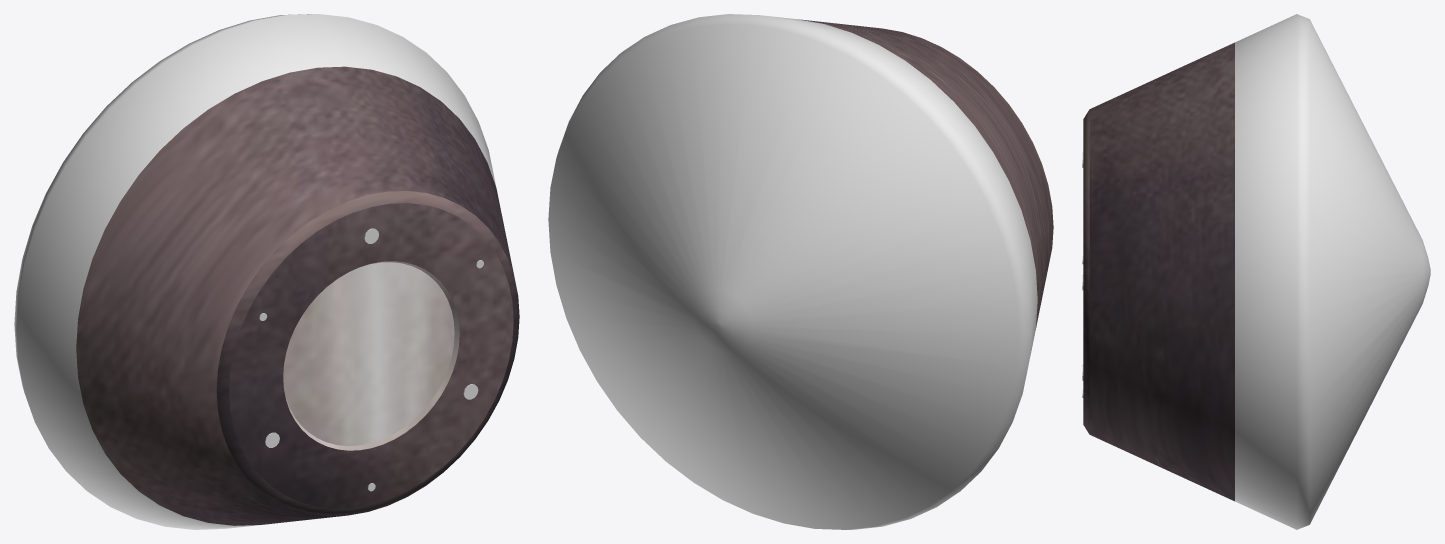
Rendered from stardust-src.glb.
3 renders of one model, left to right at view 1: azimuth 30°, elevation 25°; view 2: azimuth 150°, elevation 25°; view 3: azimuth 270°, elevation 25°, orthographic. The views are drawn at different scales.
Visible parts, largest first — view 1: Stardust_tex_01_c, Stardust_tex_01_c2, Stardust_tex_02_c; view 2: Stardust_tex_01_c2, Stardust_tex_01_c; view 3: Stardust_tex_01_c2, Stardust_tex_01_c.
Part boxes in pixels (bbox=[...]): Stardust_tex_01_c: bbox=[76, 66, 519, 525]; Stardust_tex_01_c2: bbox=[14, 14, 495, 529]; Stardust_tex_02_c: bbox=[259, 228, 483, 491]; Stardust_tex_01_c2: bbox=[548, 14, 1037, 529]; Stardust_tex_01_c: bbox=[798, 19, 1053, 329]; Stardust_tex_01_c2: bbox=[1235, 14, 1430, 529]; Stardust_tex_01_c: bbox=[1083, 42, 1234, 501].
Size of the model in its own units: 0.7232 by 0.7232 by 0.4877.
4 materials, 1 textured.
